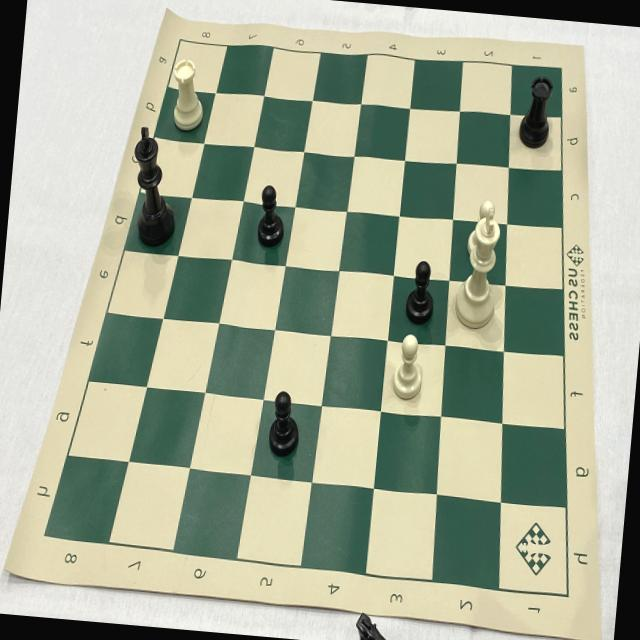black-king: (122, 121, 186, 255)
black-pawn: (262, 375, 308, 466), (249, 175, 292, 256), (399, 252, 441, 328)
black-rook: (512, 64, 564, 154)
white-king: (444, 201, 519, 337)
white-pawn: (386, 327, 435, 406), (462, 192, 507, 268)
white-rook: (162, 52, 212, 144)
